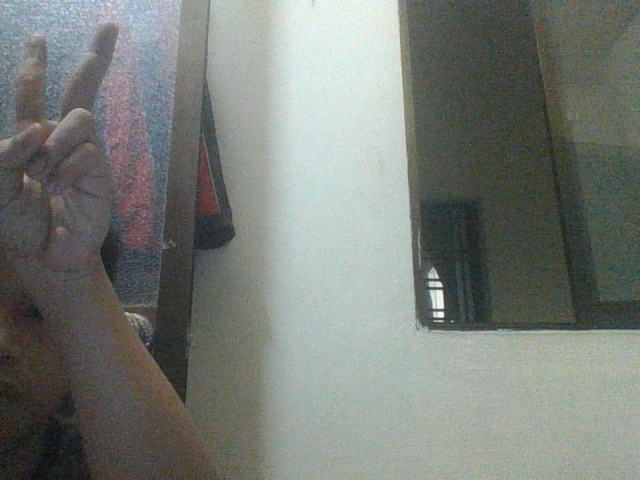wait: (20, 21, 114, 277)
